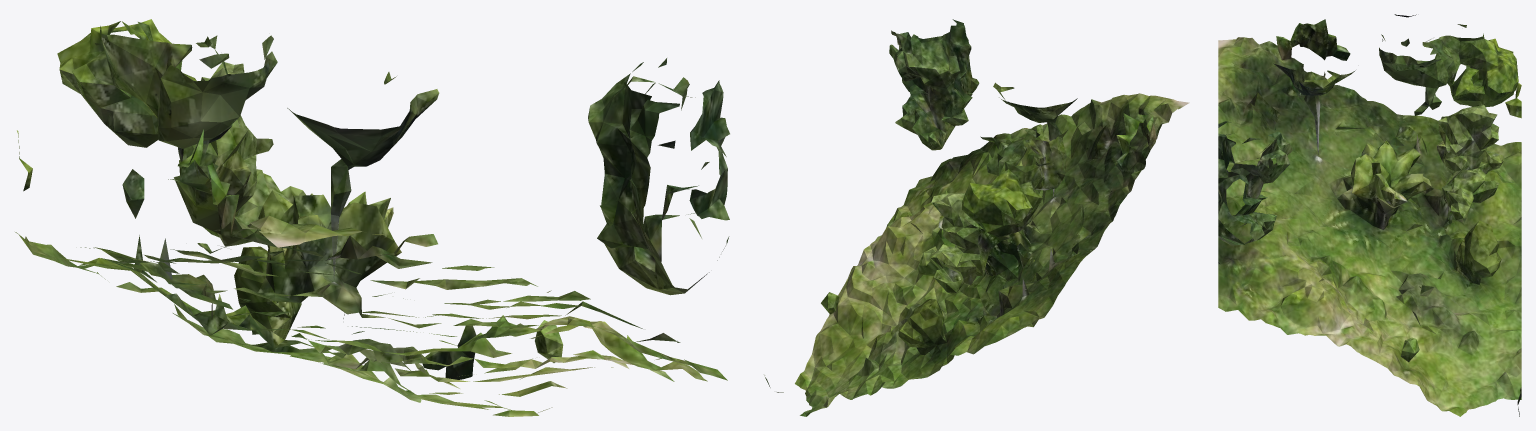
The picture shows the model from 3 angles, left to right: view 1: azimuth 30°, elevation 25°; view 2: azimuth 150°, elevation 25°; view 3: azimuth 270°, elevation 25°; orthographic projection. The views are drawn at different scales.
Bounding box in the file's own units: 26.11 × 26.11 × 26.11.
Materials: 6 (6 with a texture image).
